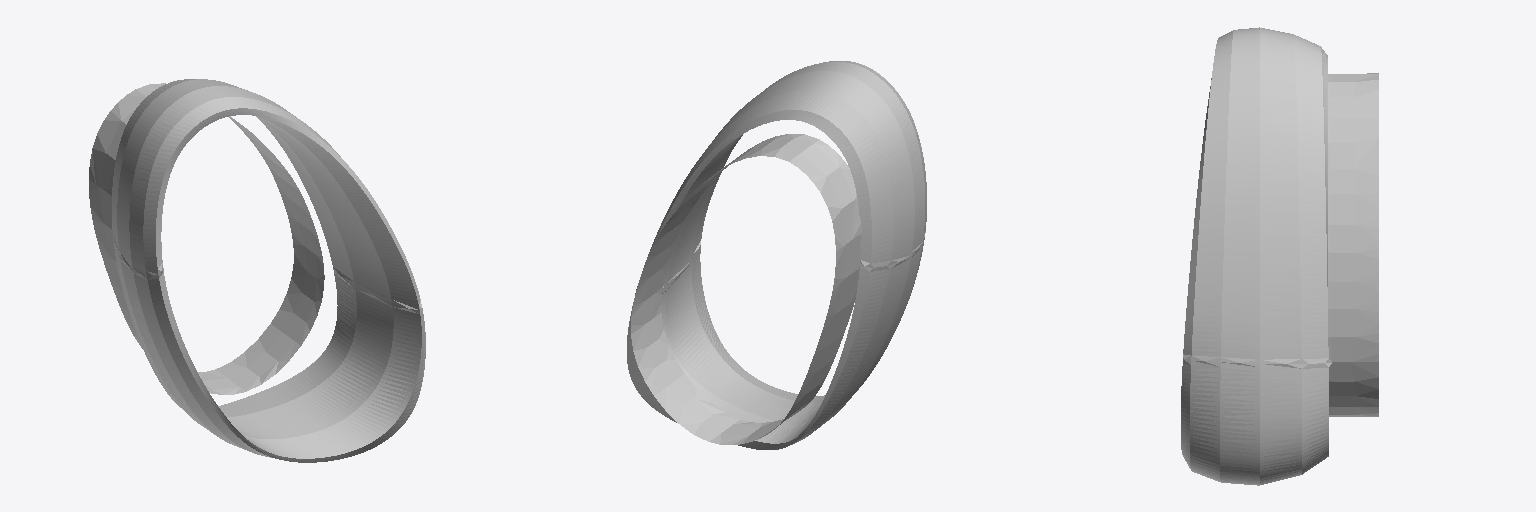
Rendered from opt3-4Glass.obj.
3 renders of one model, left to right at view 1: azimuth 30°, elevation 25°; view 2: azimuth 150°, elevation 25°; view 3: azimuth 270°, elevation 25°, orthographic.
Size of the model in its own units: 80.31 by 107 by 50.54.